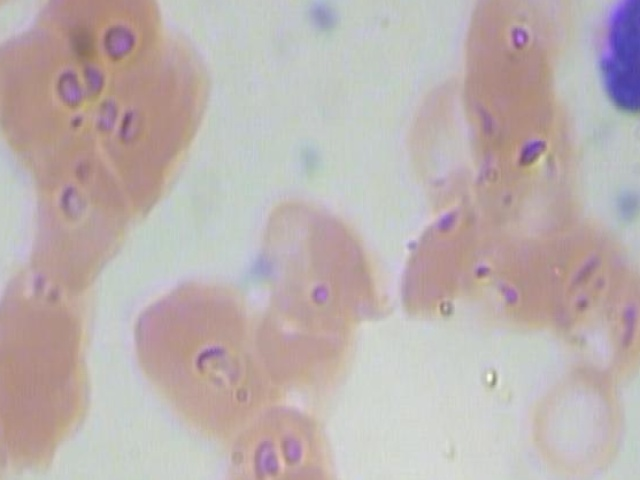Platelets: (295, 0, 351, 44)
RBC: (251, 188, 388, 334), (126, 271, 262, 416), (87, 24, 211, 167), (25, 135, 146, 281), (0, 18, 118, 161), (527, 356, 631, 480), (0, 257, 96, 388), (459, 0, 557, 119), (34, 0, 158, 80), (249, 465, 353, 480)
WBC: (580, 0, 640, 154)
